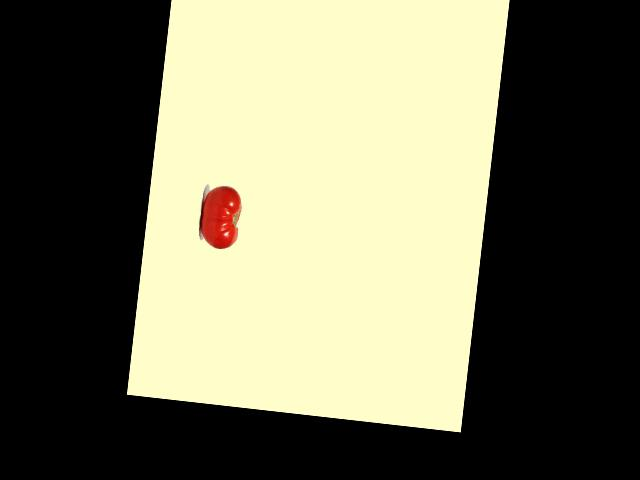tomato: (198, 184, 243, 251)
